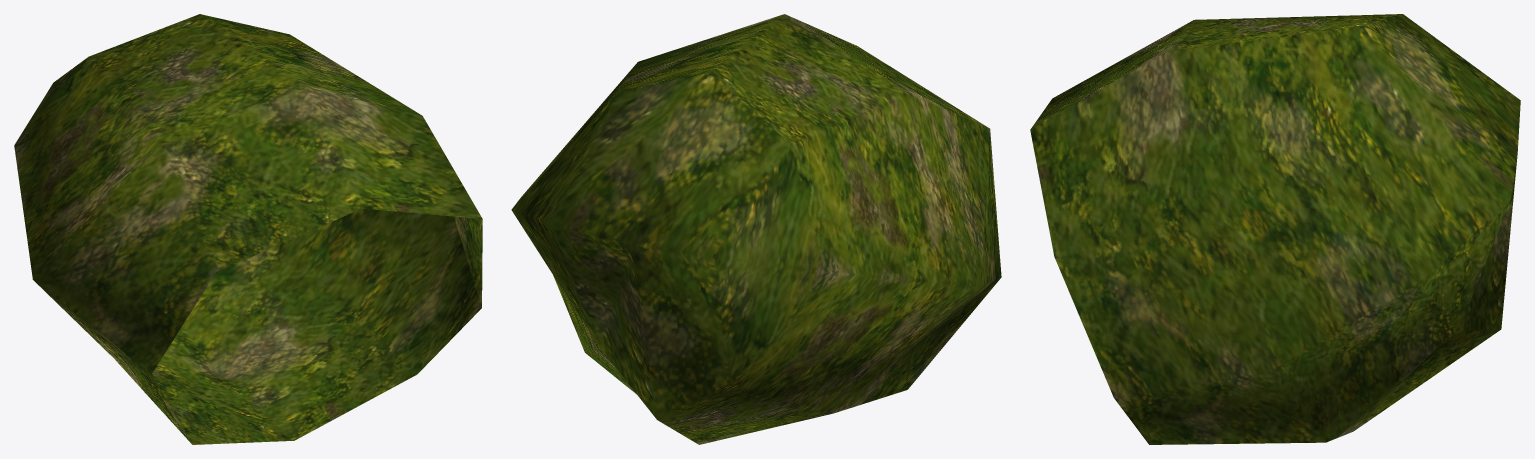
File: OVERHILL_A_01_BR_ROCK204.fbx
The picture shows the model from 3 angles, left to right: view 1: azimuth 30°, elevation 25°; view 2: azimuth 150°, elevation 25°; view 3: azimuth 270°, elevation 25°; orthographic projection. The views are drawn at different scales.
Visible parts, largest first — view 1: OVERHILL_A_01_BR_ROCK204; view 2: OVERHILL_A_01_BR_ROCK204; view 3: OVERHILL_A_01_BR_ROCK204.
Part boxes in pixels (bbox=[...]): OVERHILL_A_01_BR_ROCK204: bbox=[14, 14, 482, 444]; OVERHILL_A_01_BR_ROCK204: bbox=[511, 14, 1001, 444]; OVERHILL_A_01_BR_ROCK204: bbox=[1030, 14, 1520, 444].
Size of the model in its own units: 12263 by 9949 by 10888.
1 material, 1 textured.
